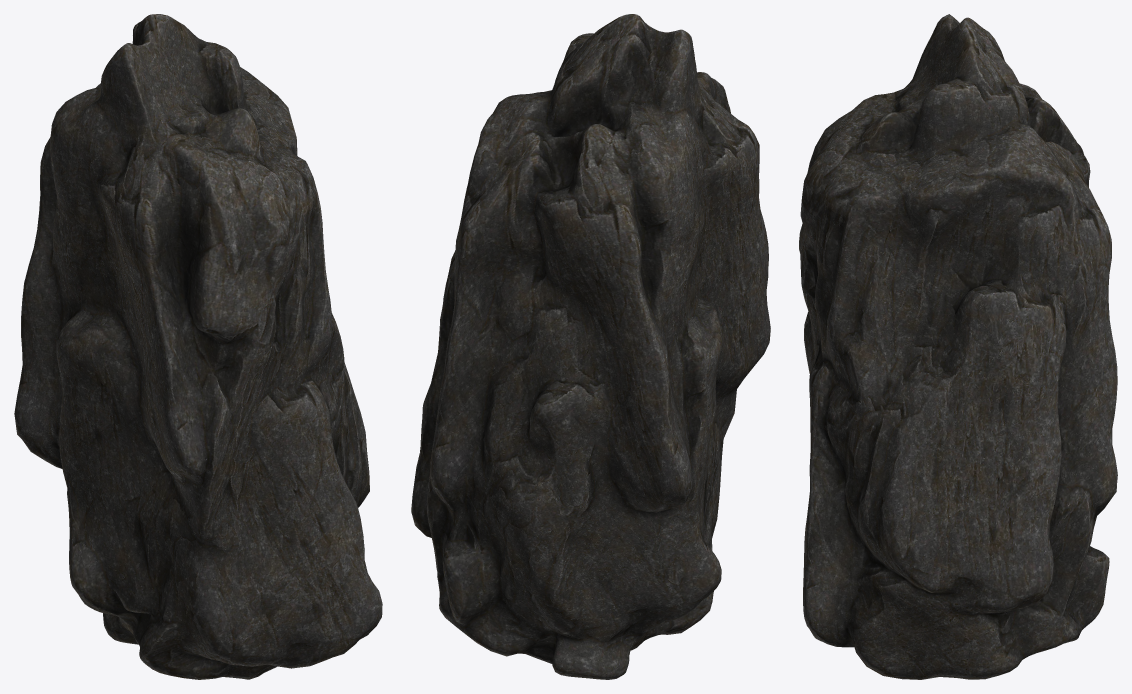
Rendered from set2_rock_13.fbx.
3 views of the same model, side by side, from view 1: azimuth 30°, elevation 25°; view 2: azimuth 150°, elevation 25°; view 3: azimuth 270°, elevation 25° (orthographic). The views are drawn at different scales.
Visible parts, largest first — view 1: set2_rock_13; view 2: set2_rock_13; view 3: set2_rock_13.
Part boxes in pixels (bbox=[...]): set2_rock_13: bbox=[14, 14, 382, 679]; set2_rock_13: bbox=[411, 14, 770, 679]; set2_rock_13: bbox=[799, 14, 1117, 679].
Bounding box in the file's own units: 120 × 267 × 125.
Materials: 1 (1 with a texture image).
